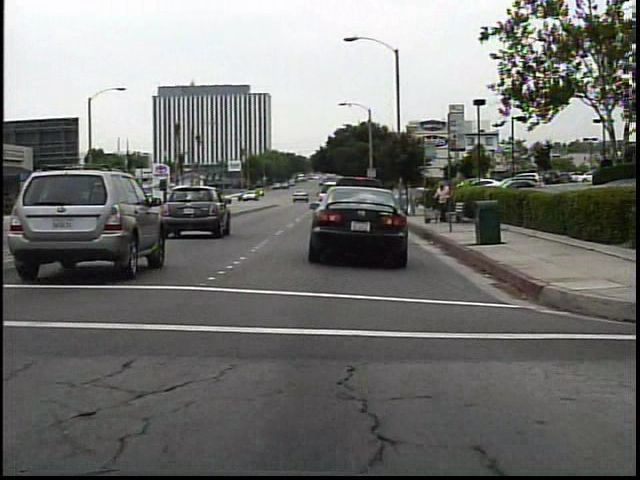person: (432, 177, 456, 225), (403, 179, 424, 221)
